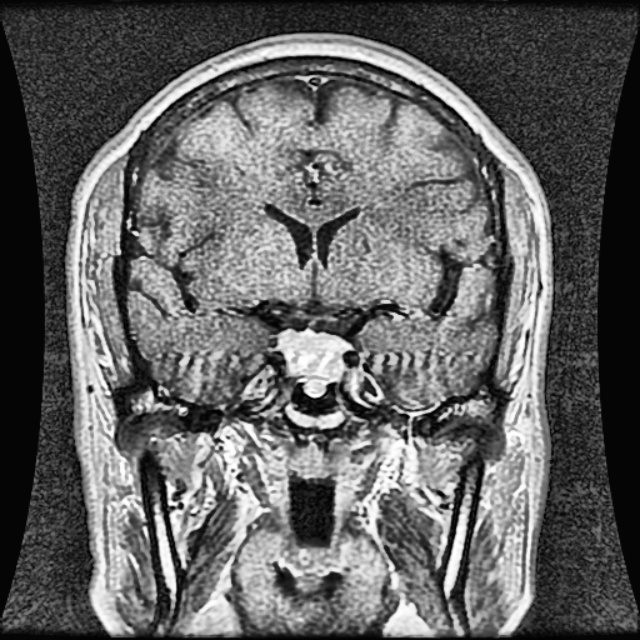Pituitary: (275, 328, 348, 398)
